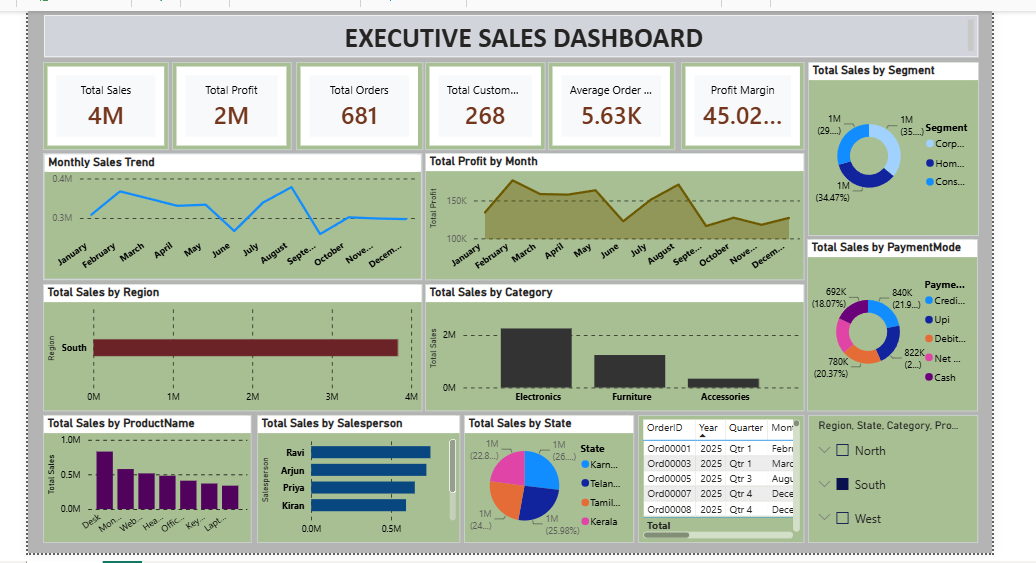

Layout of this report page (visuals, bound fields, positions):
{"tool":"powerbi","page":{"name":"Page 1","canvas":[1280,720],"ordinal":0},"visuals":[{"type":"cardVisual","fields":{"Data":["powerbi_sales_portfolio_dataset_1000.Total Sales"]},"box":[20,67.1,167.1,117.1],"z":0},{"type":"cardVisual","fields":{"Data":["powerbi_sales_portfolio_dataset_1000.Total Profit"]},"box":[191.4,67.1,158.6,117.1],"z":1000},{"type":"cardVisual","fields":{"Data":["powerbi_sales_portfolio_dataset_1000.Total Orders"]},"box":[355.7,67.1,168.6,117.1],"z":2000},{"type":"cardVisual","fields":{"Data":["powerbi_sales_portfolio_dataset_1000.Total Customers"]},"box":[527.1,67.1,160,117.1],"z":3000},{"type":"cardVisual","fields":{"Data":["powerbi_sales_portfolio_dataset_1000.Average Order Value"]},"box":[691.4,67.1,168.6,117.1],"z":4000},{"type":"cardVisual","fields":{"Data":["powerbi_sales_portfolio_dataset_1000.Profit Margin"]},"box":[867.1,67.1,164.3,117.1],"z":5000},{"type":"lineChart","title":"Monthly Sales Trend","fields":{"Y":["powerbi_sales_portfolio_dataset_1000.Total Sales"],"Category":["powerbi_sales_portfolio_dataset_1000.OrderDate.Variation.Date Hierarchy.Month"]},"box":[20,188.6,504.3,168.6],"z":6000},{"type":"areaChart","fields":{"Category":["powerbi_sales_portfolio_dataset_1000.OrderDate.Variation.Date Hierarchy.Month"],"Y":["powerbi_sales_portfolio_dataset_1000.Total Profit"]},"box":[527.1,188.6,504.3,168.6],"z":7000},{"type":"clusteredBarChart","fields":{"Category":["powerbi_sales_portfolio_dataset_1000.Region"],"Y":["powerbi_sales_portfolio_dataset_1000.Total Sales"]},"box":[20,362.9,504.3,168.6],"z":8000},{"type":"clusteredColumnChart","fields":{"Category":["powerbi_sales_portfolio_dataset_1000.Category"],"Y":["powerbi_sales_portfolio_dataset_1000.Total Sales"]},"box":[527.1,362.9,504.3,168.6],"z":9000},{"type":"donutChart","fields":{"Category":["powerbi_sales_portfolio_dataset_1000.Segment"],"Y":["powerbi_sales_portfolio_dataset_1000.Total Sales"]},"box":[1035.7,67.1,227.1,231.4],"z":10000},{"type":"donutChart","fields":{"Y":["powerbi_sales_portfolio_dataset_1000.Total Sales"],"Category":["powerbi_sales_portfolio_dataset_1000.PaymentMode"]},"box":[1034.3,302.9,227.1,228.6],"z":11000},{"type":"columnChart","fields":{"Category":["powerbi_sales_portfolio_dataset_1000.ProductName"],"Y":["powerbi_sales_portfolio_dataset_1000.Total Sales"]},"box":[20,537.1,277.1,170],"z":12000},{"type":"barChart","fields":{"Category":["powerbi_sales_portfolio_dataset_1000.Salesperson"],"Y":["powerbi_sales_portfolio_dataset_1000.Total Sales"]},"box":[304.3,537.1,270,170],"z":12001},{"type":"pieChart","fields":{"Category":["powerbi_sales_portfolio_dataset_1000.State"],"Y":["powerbi_sales_portfolio_dataset_1000.Total Sales"]},"box":[578.6,537.1,225.7,170],"z":12002},{"type":"tableEx","fields":{"Values":["powerbi_sales_portfolio_dataset_1000.OrderID","powerbi_sales_portfolio_dataset_1000.OrderDate.Variation.Date Hierarchy.Year","powerbi_sales_portfolio_dataset_1000.OrderDate.Variation.Date Hierarchy.Quarter","powerbi_sales_portfolio_dataset_1000.OrderDate.Variation.Date Hierarchy.Month","powerbi_sales_portfolio_dataset_1000.OrderDate.Variation.Date Hierarchy.Day","powerbi_sales_portfolio_dataset_1000.CustomerName","powerbi_sales_portfolio_dataset_1000.Category","Sum(powerbi_sales_portfolio_dataset_1000.Sales)","Sum(powerbi_sales_portfolio_dataset_1000.Profit)"]},"box":[810,537.1,221.4,170],"z":12003},{"type":"slicer","fields":{"Values":["powerbi_sales_portfolio_dataset_1000.Region","powerbi_sales_portfolio_dataset_1000.State","powerbi_sales_portfolio_dataset_1000.Category","powerbi_sales_portfolio_dataset_1000.ProductName","powerbi_sales_portfolio_dataset_1000.Salesperson","powerbi_sales_portfolio_dataset_1000.Segment","powerbi_sales_portfolio_dataset_1000.PaymentMode","powerbi_sales_portfolio_dataset_1000.OrderDate"]},"box":[1035.7,537.1,225.7,170],"z":12004},{"type":"textbox","box":[21.4,5.7,1241.4,55.7],"z":12005}]}

Visuals, with their boxes on the page's 1280x720 design canvas (x1, y1, x2, y2). These are canvas units, not pixel positions in the 1036x563 screenshot, which may show the page scaled, cropped or inside an application window:
cardVisual - powerbi_sales_portfolio_dataset_1000.Total Sales: 20/67/187/184
cardVisual - powerbi_sales_portfolio_dataset_1000.Total Profit: 191/67/350/184
cardVisual - powerbi_sales_portfolio_dataset_1000.Total Orders: 356/67/524/184
cardVisual - powerbi_sales_portfolio_dataset_1000.Total Customers: 527/67/687/184
cardVisual - powerbi_sales_portfolio_dataset_1000.Average Order Value: 691/67/860/184
cardVisual - powerbi_sales_portfolio_dataset_1000.Profit Margin: 867/67/1031/184
"Monthly Sales Trend" lineChart: 20/189/524/357
areaChart - powerbi_sales_portfolio_dataset_1000.OrderDate.Variation.Date Hierarchy.Month x powerbi_sales_portfolio_dataset_1000.Total Profit: 527/189/1031/357
clusteredBarChart - powerbi_sales_portfolio_dataset_1000.Region x powerbi_sales_portfolio_dataset_1000.Total Sales: 20/363/524/532
clusteredColumnChart - powerbi_sales_portfolio_dataset_1000.Category x powerbi_sales_portfolio_dataset_1000.Total Sales: 527/363/1031/532
donutChart - powerbi_sales_portfolio_dataset_1000.Segment x powerbi_sales_portfolio_dataset_1000.Total Sales: 1036/67/1263/298
donutChart - powerbi_sales_portfolio_dataset_1000.Total Sales x powerbi_sales_portfolio_dataset_1000.PaymentMode: 1034/303/1261/532
columnChart - powerbi_sales_portfolio_dataset_1000.ProductName x powerbi_sales_portfolio_dataset_1000.Total Sales: 20/537/297/707
barChart - powerbi_sales_portfolio_dataset_1000.Salesperson x powerbi_sales_portfolio_dataset_1000.Total Sales: 304/537/574/707
pieChart - powerbi_sales_portfolio_dataset_1000.State x powerbi_sales_portfolio_dataset_1000.Total Sales: 579/537/804/707
tableEx - powerbi_sales_portfolio_dataset_1000.OrderID x powerbi_sales_portfolio_dataset_1000.OrderDate.Variation.Date Hierarchy.Year: 810/537/1031/707
slicer - powerbi_sales_portfolio_dataset_1000.Region x powerbi_sales_portfolio_dataset_1000.State: 1036/537/1261/707
textbox: 21/6/1263/61
